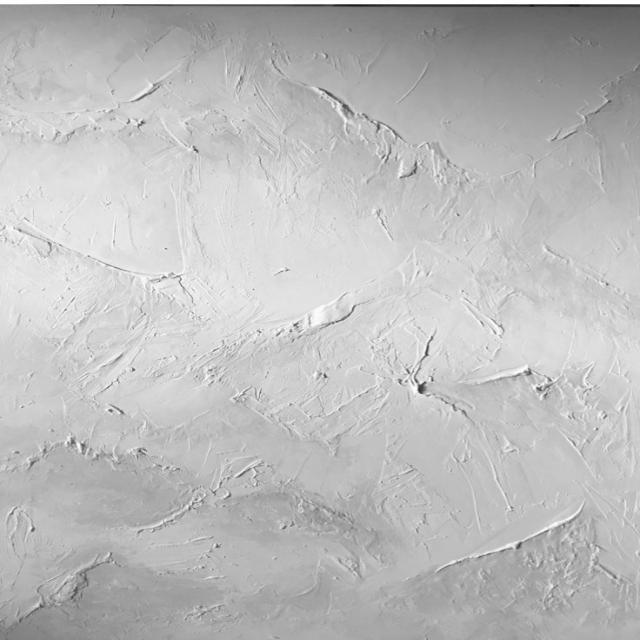rough and patchy surface: (0, 3, 640, 638)
